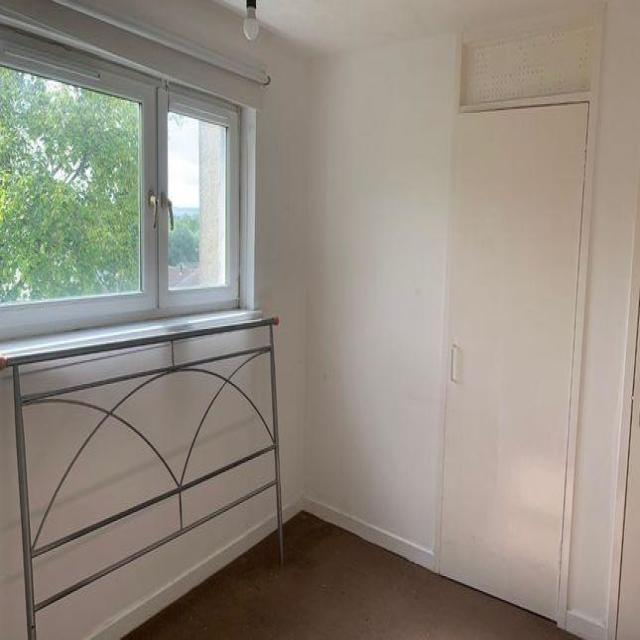Wall: (137, 0, 460, 569), (126, 512, 575, 638), (566, 0, 640, 637), (38, 489, 276, 637), (270, 272, 375, 537), (258, 1, 600, 53), (258, 1, 599, 52), (44, 420, 170, 537), (35, 502, 178, 597), (120, 375, 217, 472), (25, 405, 98, 530), (188, 388, 268, 475), (0, 371, 25, 637), (24, 353, 169, 393), (183, 458, 273, 520), (175, 332, 266, 361), (260, 182, 278, 297), (237, 358, 269, 417), (219, 0, 244, 14)
